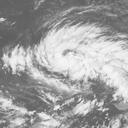cyclone: (33, 23, 110, 86)
